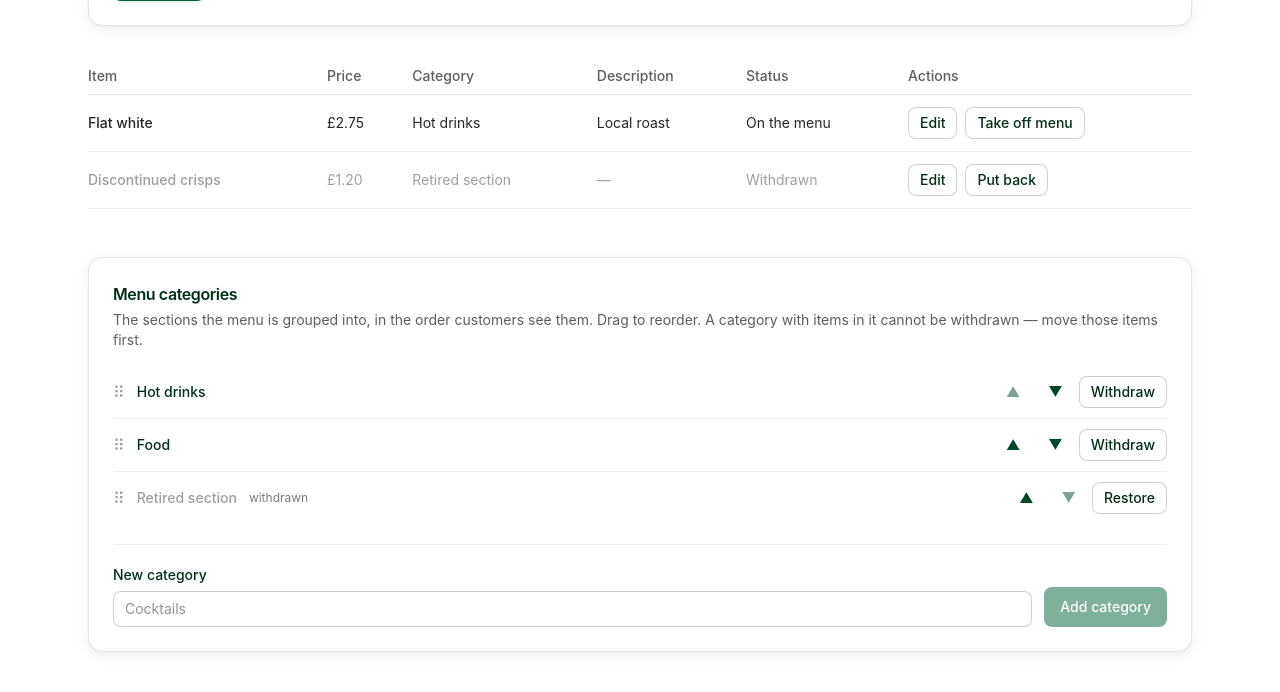
Scenario: AdminCafePage › surfaces the refusal when a category in use cannot be withdrawn
(page scrolled)
Click the 1st button "Withdraw".
click(1123, 392)  # box [1079,376,1167,408]
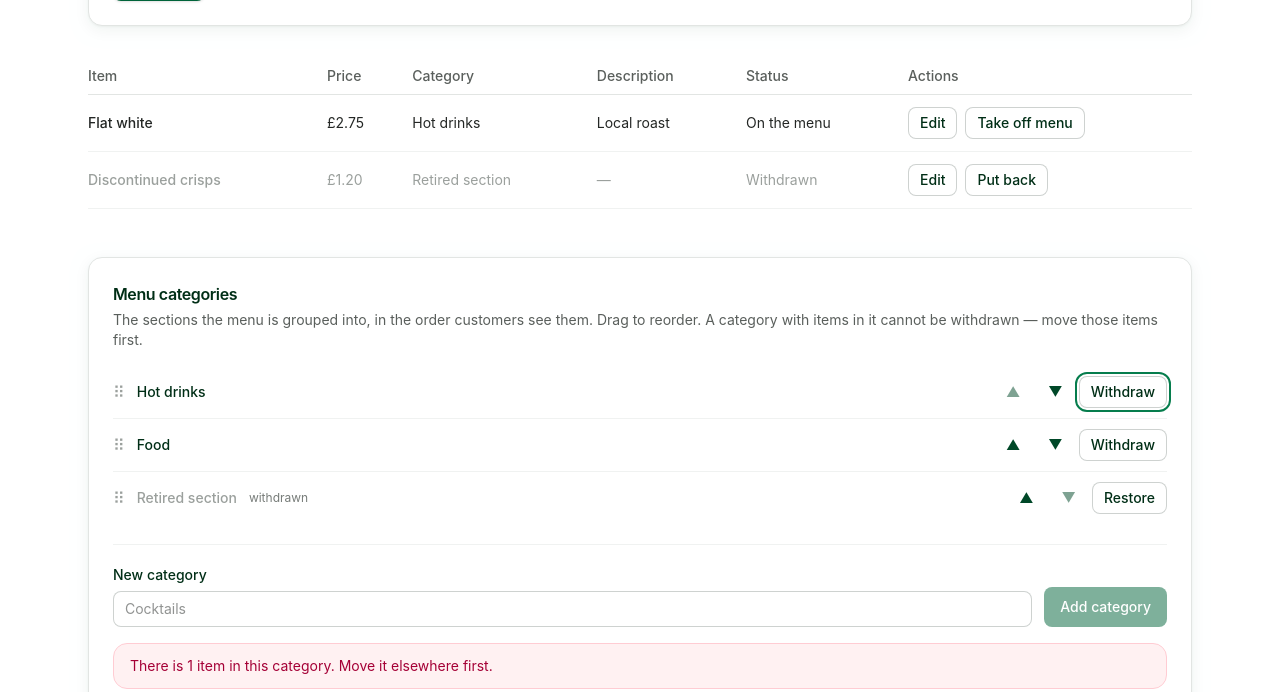
Result: the message shows "Move it elsewhere first." at [130,657,493,674]
